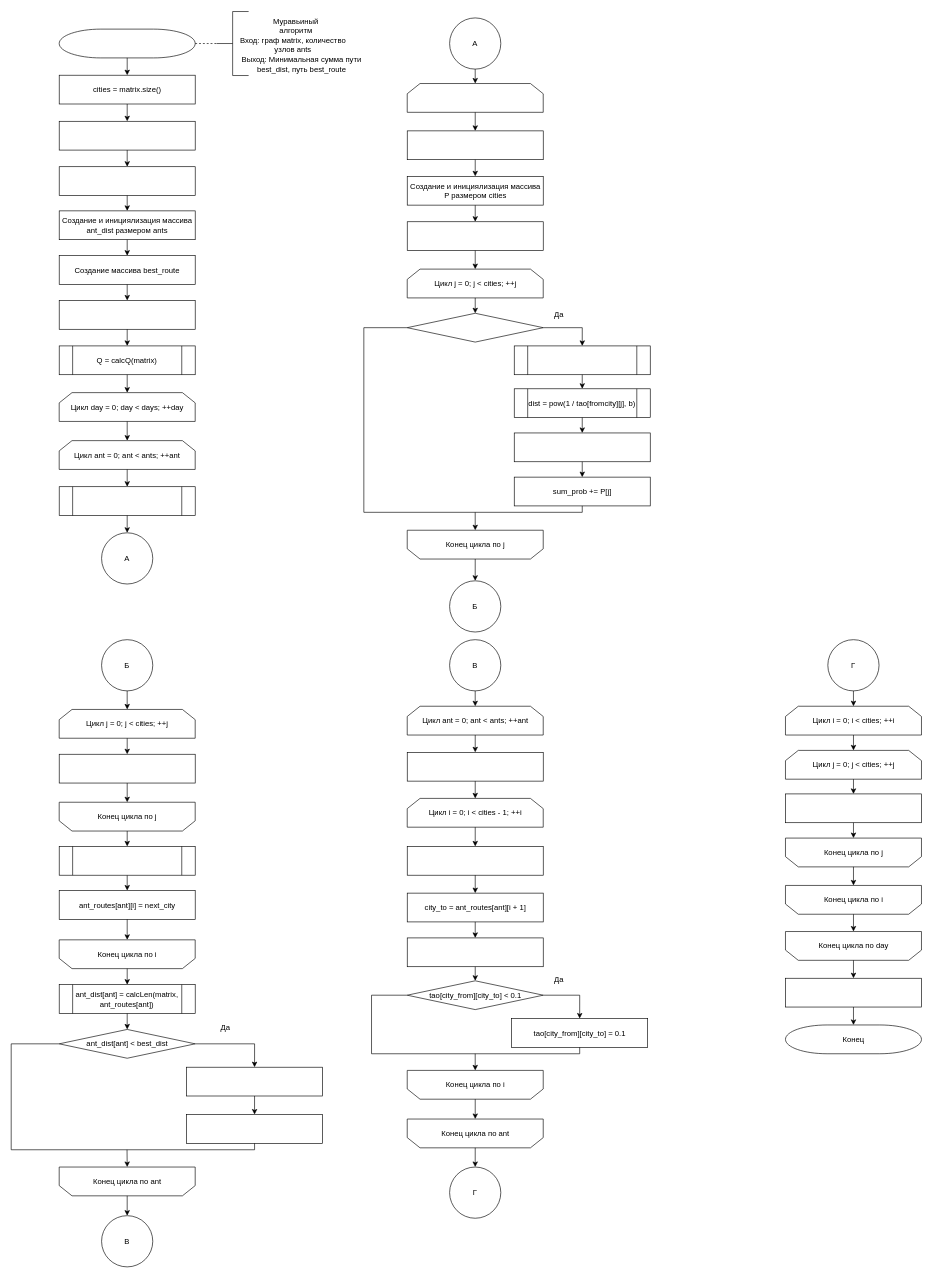
The diagram is 933 pixels wide and 1278 high, and some of its shapes have lost their labels. Each missing label, with the centre of its shape:
"ant_routes[ant].begin()+i-1==j" belongs at (x=475, y=327).
"ant_routes[ant][0] = rant() % cities" belongs at (x=127, y=501).
"best_dist = and_dist[ant]" belongs at (x=254, y=1081).
"best_dist = MAX_DOUBLE" belongs at (x=127, y=314).
"best_route = ant_route[ant]" belongs at (x=254, y=1128).
"city_from = ant_routes[ant][i]" belongs at (x=475, y=860).
"delta_tao = Q / ant_dist[ant]" belongs at (x=475, y=766).
"from_city = ant_routes[ant][i - 1]" belongs at (x=475, y=145).
"next_city = chooseNextLoc(P)" belongs at (x=127, y=860).
"P[j] /= sum_prob" belongs at (x=127, y=768).
"P[j] = pher * dist" belongs at (x=582, y=447).
"pher = pow(tao[fromcity][j], a)" belongs at (x=582, y=360).
"sum_prob = 0.0" belongs at (x=475, y=236).
"tao[city_from][city_to] += delta_tao" belongs at (x=475, y=952).
"tao[i][j] *= (1.0 - rho)" belongs at (x=853, y=808).
"Вернуть best_dist, best_route" belongs at (x=853, y=992).
"Начало" belongs at (x=127, y=43).
"Создание и инициялизация двухмерного массива ant_routes размером ants на ants" belongs at (x=127, y=181).
"Создание и инициялизация двухмерного массива tao размером cities на cities" belongs at (x=127, y=135).
"Цикл i = 1; i < cities; ++i" belongs at (x=475, y=97).
